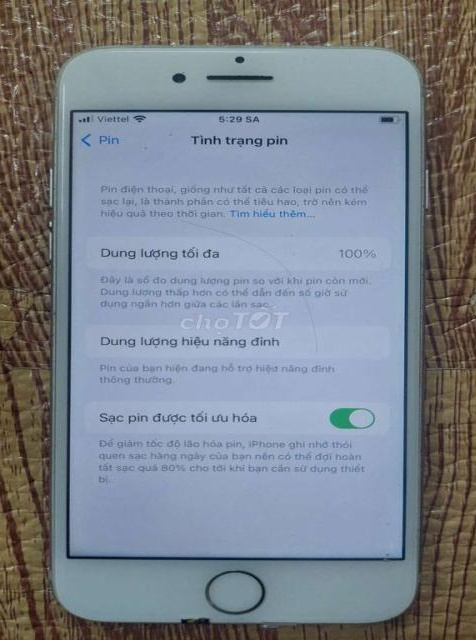scratch: (135, 119, 188, 151), (369, 514, 393, 570)
